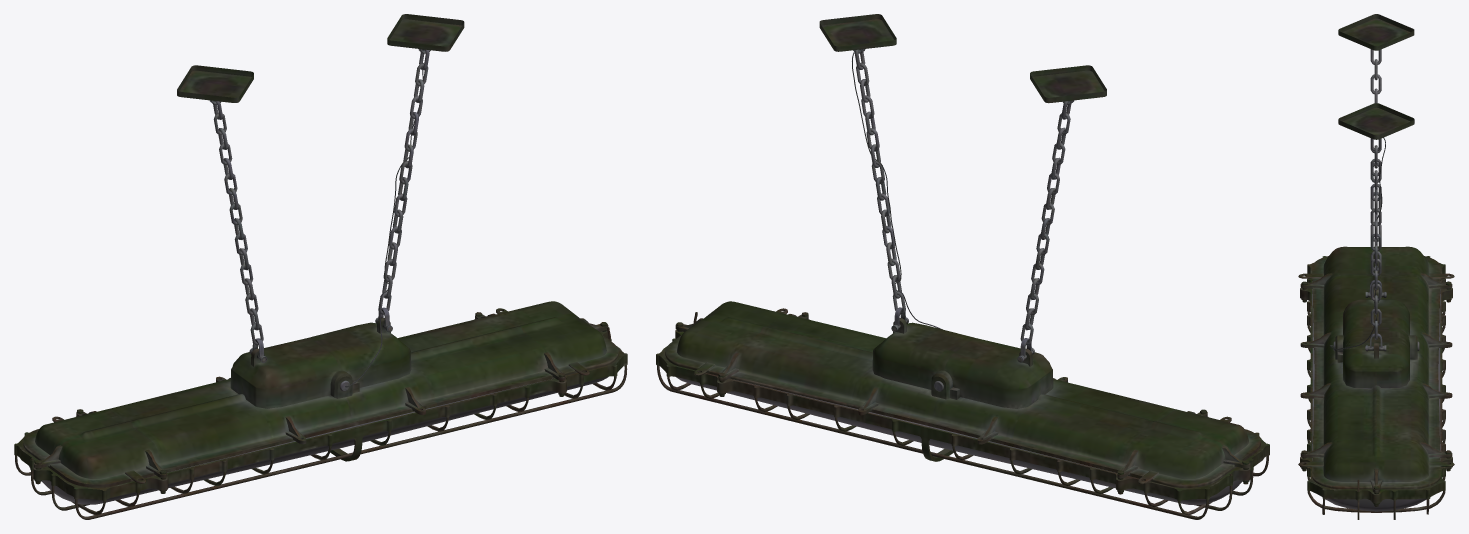
The model's file is caged_hanging_light.gltf.
3 renders of one model, left to right at view 1: azimuth 30°, elevation 25°; view 2: azimuth 150°, elevation 25°; view 3: azimuth 270°, elevation 25°, orthographic. The views are drawn at different scales.
Visible parts, largest first — view 1: caged_hanging_light; view 2: caged_hanging_light; view 3: caged_hanging_light.
Part boxes in pixels (<box>): caged_hanging_light: <box>14,14,627,519</box>; caged_hanging_light: <box>656,14,1269,519</box>; caged_hanging_light: <box>1298,14,1454,519</box>.
Bounding box in the file's own units: 1.16 × 0.7501 × 0.3149.
Materials: 1 (1 with a texture image).
